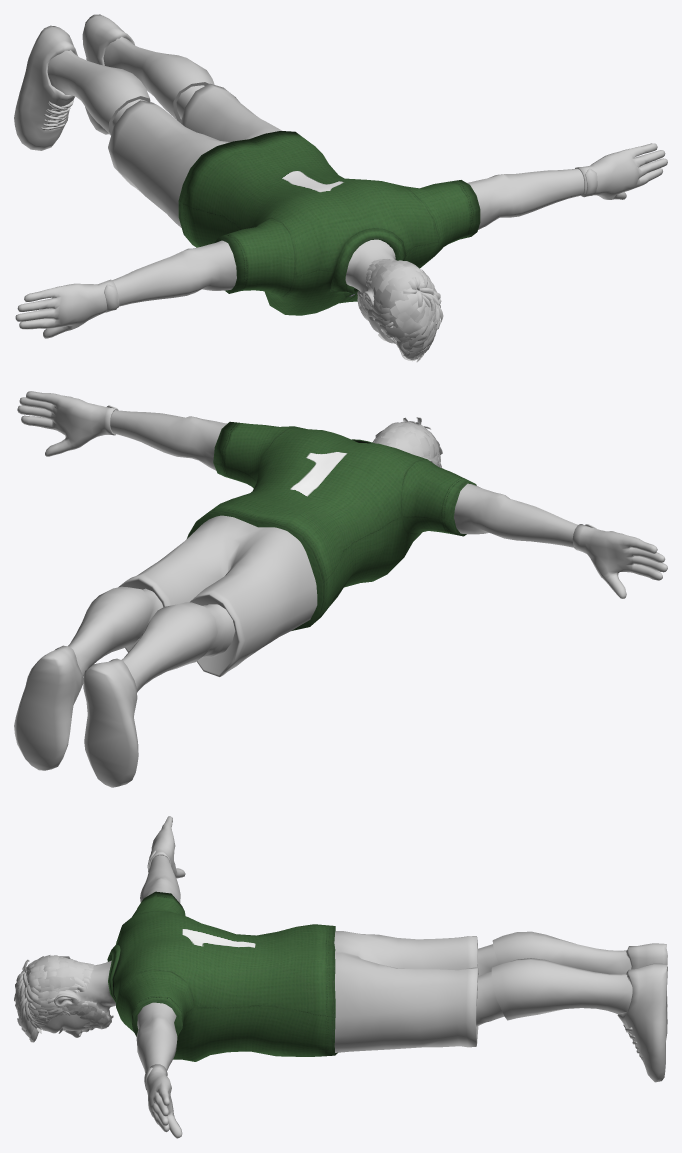
Rendered from football-player1.obj.
3 renders of one model, top to bottom at view 1: azimuth 30°, elevation 25°; view 2: azimuth 150°, elevation 25°; view 3: azimuth 270°, elevation 25°, orthographic. The views are drawn at different scales.
Parts seen in each view (by area): view 1: Tops, Body, Bottoms, Socks, Gloves, Shoes, Hair; view 2: Tops, Bottoms, Shoes, Body, Socks, Gloves, Hair; view 3: Tops, Bottoms, Socks, Body, Shoes, Hair, Gloves, Beards.
Boxes of the visible parts, left/top/right/bottom form: Tops: left=178, top=131, right=480, bottom=315; Body: left=112, top=85, right=584, bottom=343; Bottoms: left=108, top=83, right=282, bottom=227; Socks: left=47, top=36, right=214, bottom=135; Gloves: left=15, top=143, right=667, bottom=338; Shoes: left=14, top=14, right=134, bottom=150; Hair: left=366, top=259, right=443, bottom=362; Tops: left=187, top=421, right=476, bottom=630; Bottoms: left=118, top=515, right=317, bottom=676; Shoes: left=14, top=645, right=138, bottom=787; Body: left=110, top=410, right=577, bottom=657; Socks: left=68, top=586, right=217, bottom=692; Gloves: left=17, top=391, right=667, bottom=598; Hair: left=372, top=417, right=442, bottom=468; Tops: left=107, top=891, right=337, bottom=1061; Bottoms: left=334, top=931, right=478, bottom=1052; Socks: left=491, top=931, right=632, bottom=1020; Body: left=36, top=855, right=504, bottom=1072; Shoes: left=617, top=943, right=667, bottom=1082; Hair: left=14, top=955, right=93, bottom=1042; Gloves: left=144, top=816, right=185, bottom=1138; Beards: left=64, top=1000, right=113, bottom=1029.
Size of the model in its own units: 1.94 by 0.4066 by 1.83.
